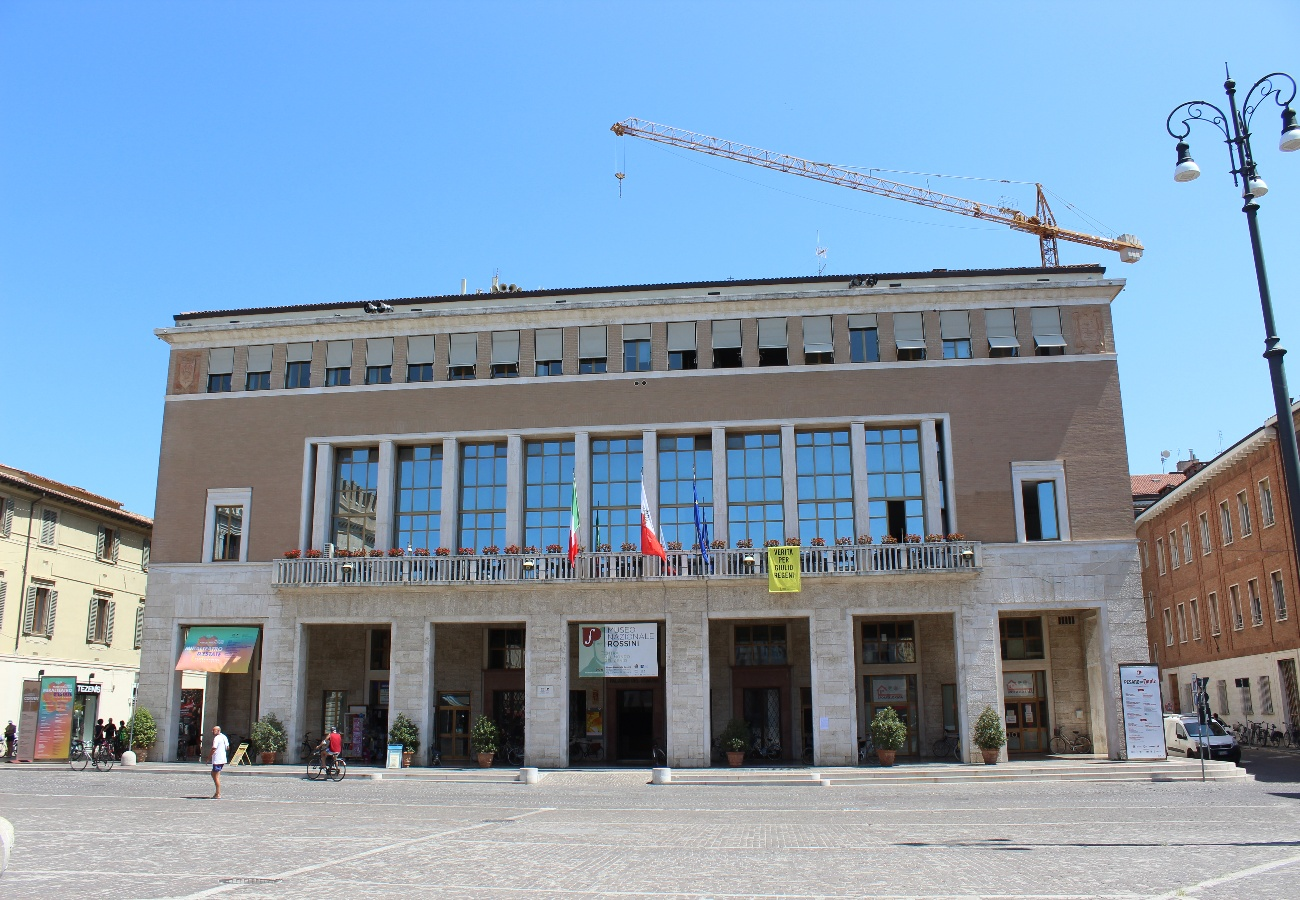Palazzo Comunale: (153, 259, 1125, 773)
